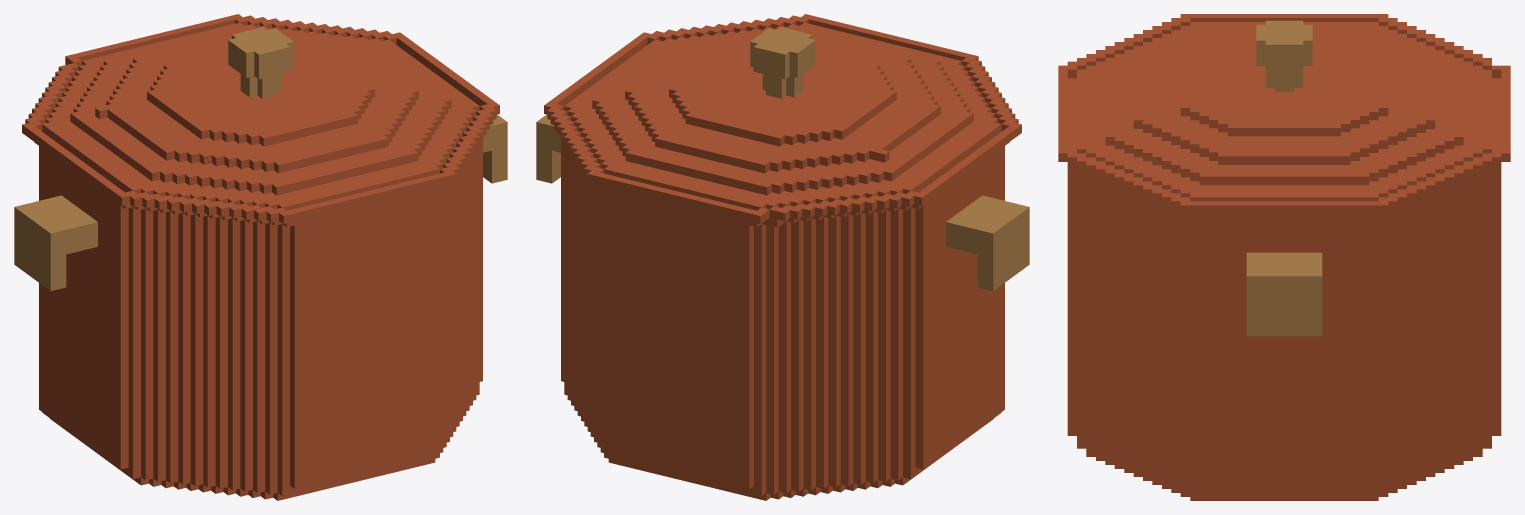
File: pot_copper.glb
The picture shows the model from 3 angles, left to right: view 1: azimuth 30°, elevation 25°; view 2: azimuth 150°, elevation 25°; view 3: azimuth 270°, elevation 25°; orthographic projection. The views are drawn at different scales.
Visible parts, largest first — view 1: pot_copper:compound; view 2: pot_copper:compound; view 3: pot_copper:compound.
Boxes of the visible parts, <box> form: pot_copper:compound: <box>14,14,507,500</box>; pot_copper:compound: <box>536,14,1029,500</box>; pot_copper:compound: <box>1058,14,1510,500</box>.
Size of the model in its own units: 0.232 by 0.18 by 0.192.
